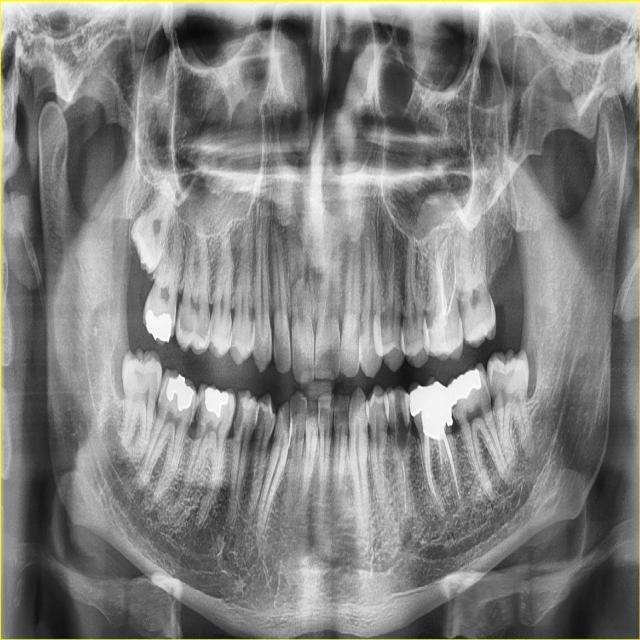71: (440, 429, 454, 461)
74: (428, 231, 448, 320), (420, 432, 440, 505), (446, 255, 459, 317), (447, 457, 462, 499), (439, 246, 448, 314), (438, 439, 443, 471), (404, 463, 407, 515)
NucleOSS Implant: (406, 380, 457, 445), (439, 366, 487, 408), (159, 372, 200, 414), (196, 383, 231, 418)
Sterngold Implant: (396, 410, 412, 456), (252, 402, 267, 432), (194, 397, 204, 441), (234, 396, 245, 432), (132, 366, 150, 384), (176, 306, 185, 329), (208, 315, 217, 336), (446, 425, 453, 438)
Straumann Implant: (417, 312, 454, 360)
